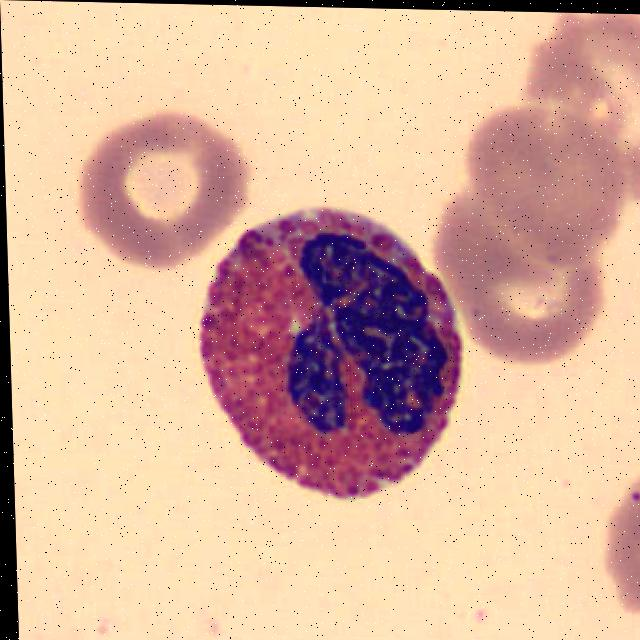eosinophil: (189, 207, 468, 500)
rbc: (71, 99, 258, 275), (431, 194, 612, 366), (464, 108, 629, 262), (515, 11, 640, 198), (597, 442, 640, 640)
